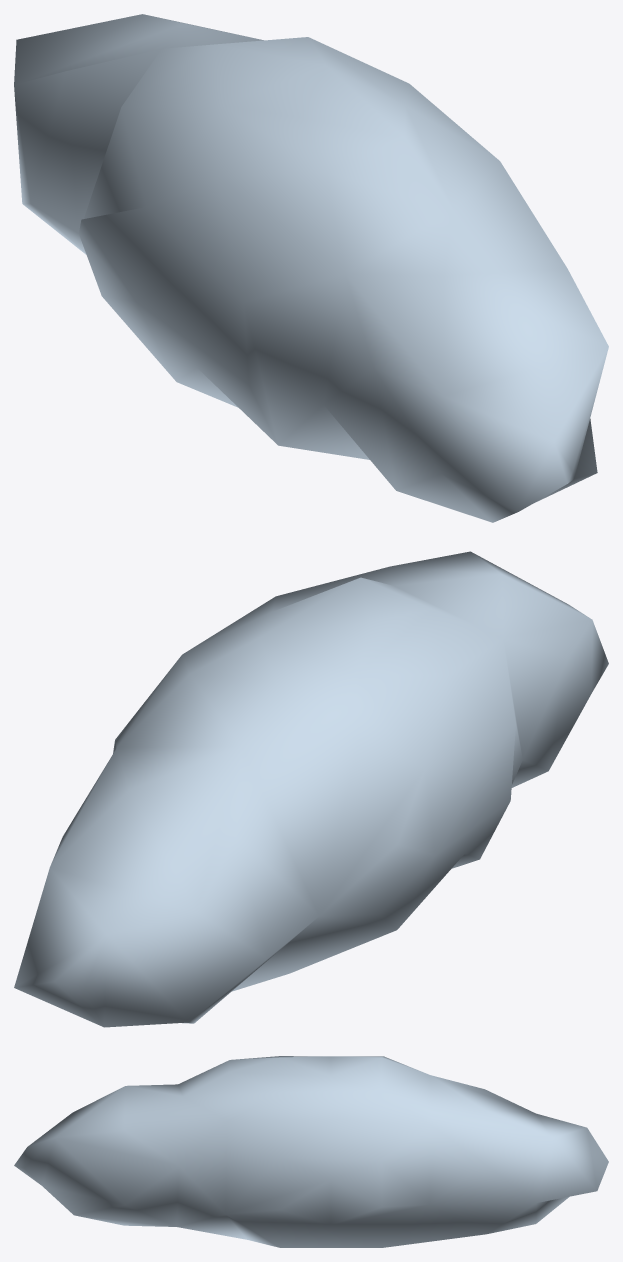
The model's file is Nuvem 01.fbx.
3 renders of one model, top to bottom at view 1: azimuth 30°, elevation 25°; view 2: azimuth 150°, elevation 25°; view 3: azimuth 270°, elevation 25°, orthographic. The views are drawn at different scales.
Visible parts, largest first — view 1: Sphere.007; view 2: Sphere.007; view 3: Sphere.007.
Boxes of the visible parts, bbox=[...] form: Sphere.007: bbox=[14, 14, 608, 522]; Sphere.007: bbox=[14, 551, 608, 1027]; Sphere.007: bbox=[14, 1056, 608, 1247].
Bounding box in the file's own units: 154 × 151 × 462.
